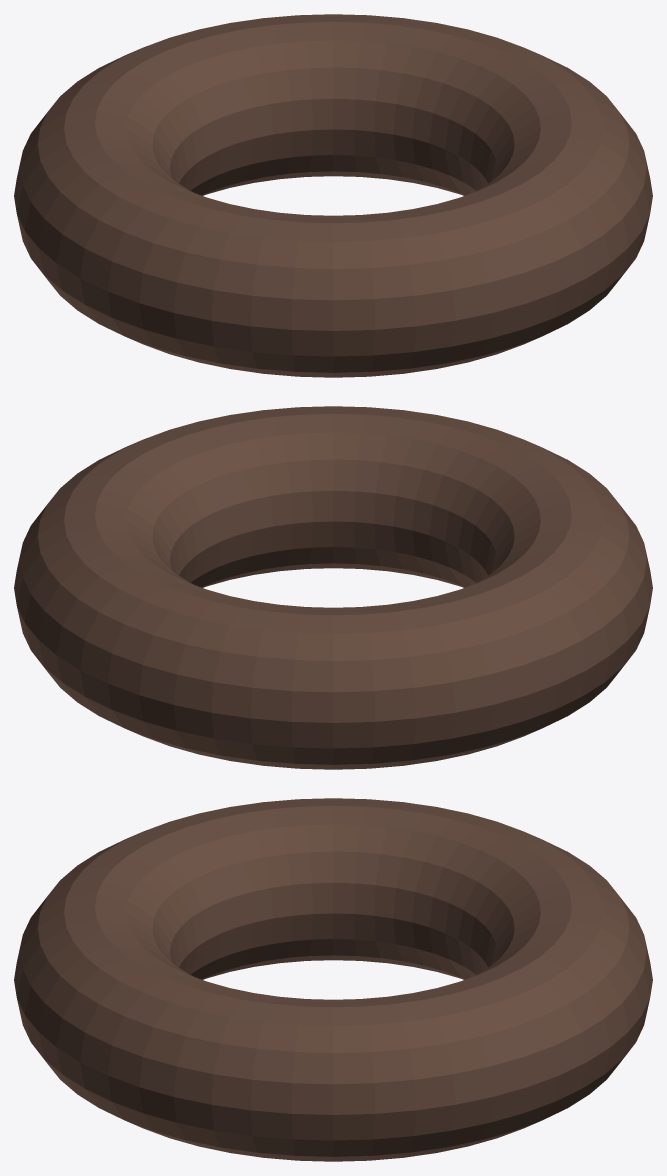
3 renders of one model, top to bottom at view 1: azimuth 30°, elevation 25°; view 2: azimuth 150°, elevation 25°; view 3: azimuth 270°, elevation 25°, orthographic.
Visible parts, largest first — view 1: Torus.001; view 2: Torus.001; view 3: Torus.001.
Part boxes in pixels (x1=…): Torus.001: x1=14, y1=14, x2=652, y2=377; Torus.001: x1=14, y1=406, x2=652, y2=769; Torus.001: x1=14, y1=798, x2=652, y2=1161.
Bounding box in the file's own units: 2.68 × 0.68 × 2.68.
